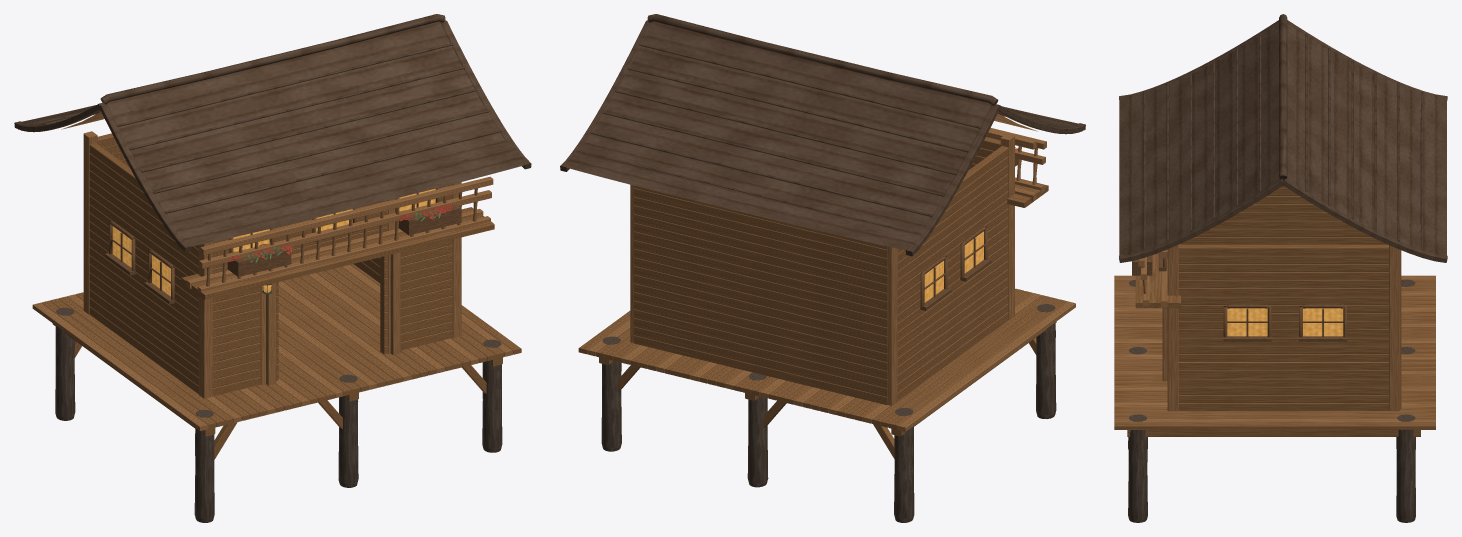
File: swiss_boathouse.glb
The picture shows the model from 3 angles, left to right: view 1: azimuth 30°, elevation 25°; view 2: azimuth 150°, elevation 25°; view 3: azimuth 270°, elevation 25°; orthographic projection. The views are drawn at different scales.
Visible parts, largest first — view 1: swiss_boathouse; view 2: swiss_boathouse; view 3: swiss_boathouse.
Boxes of the visible parts, left/top/right/bottom form: swiss_boathouse: left=14, top=14, right=531, bottom=522; swiss_boathouse: left=560, top=14, right=1085, bottom=522; swiss_boathouse: left=1114, top=14, right=1447, bottom=522.
Bounding box in the file's own units: 6 × 6.2 × 5.2.
3 materials, 3 textured.
